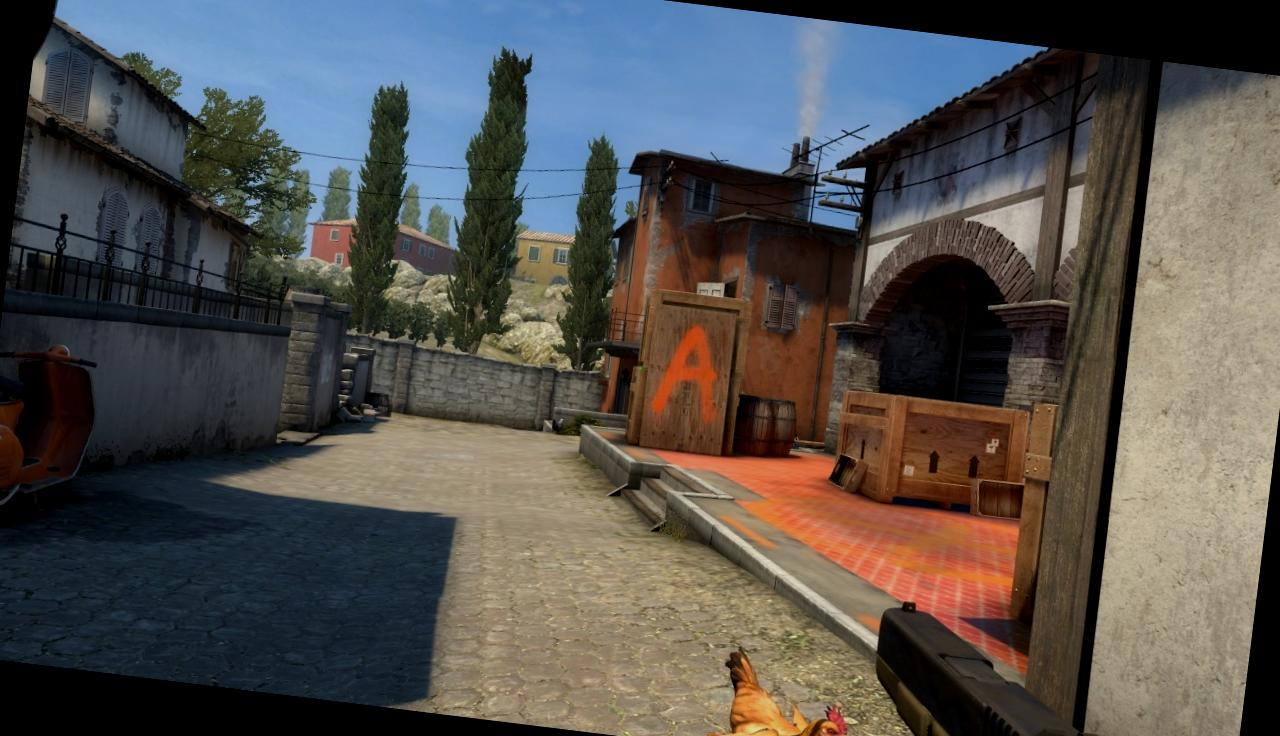pistol: (858, 600, 1139, 736)
